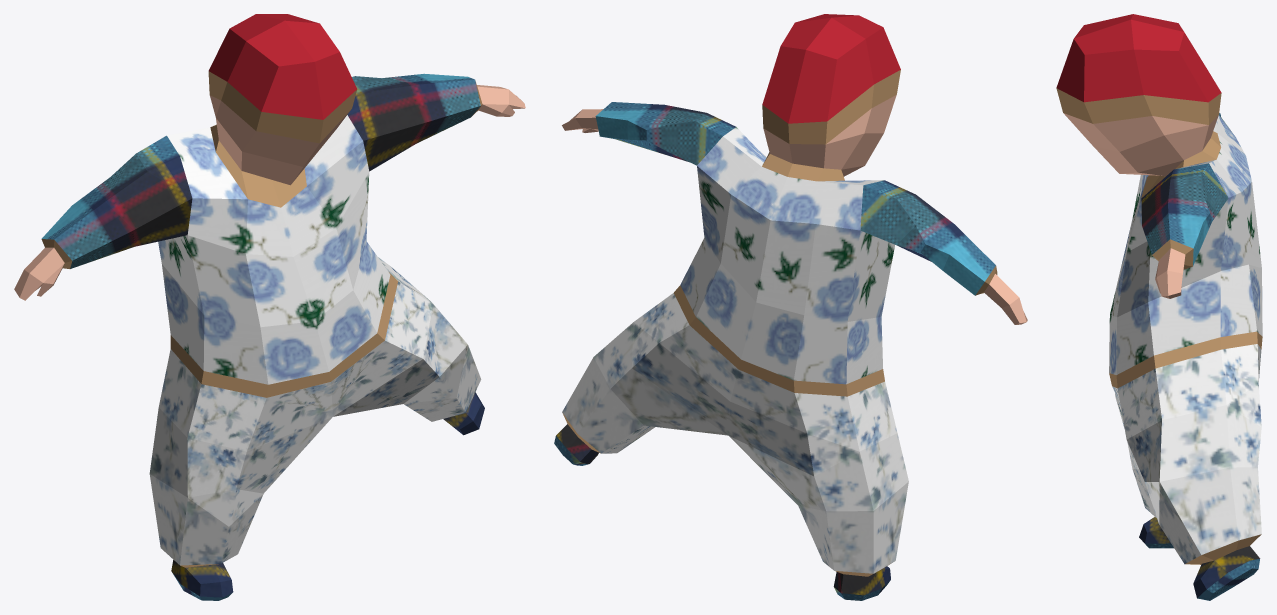
The model's file is SpringBaby.001.glb.
3 views of the same model, side by side, from view 1: azimuth 30°, elevation 25°; view 2: azimuth 150°, elevation 25°; view 3: azimuth 270°, elevation 25° (orthographic). The views are drawn at different scales.
Parts seen in each view (by area): view 1: SpringBaby.001; view 2: SpringBaby.001; view 3: SpringBaby.001.
Part boxes in pixels (left/top/right/bottom): SpringBaby.001: left=14, top=14, right=525, bottom=600; SpringBaby.001: left=554, top=14, right=1027, bottom=600; SpringBaby.001: left=1056, top=14, right=1262, bottom=600.
Bounding box in the file's own units: 0.5353 × 0.592 × 0.2007.
Materials: 1 (1 with a texture image).
